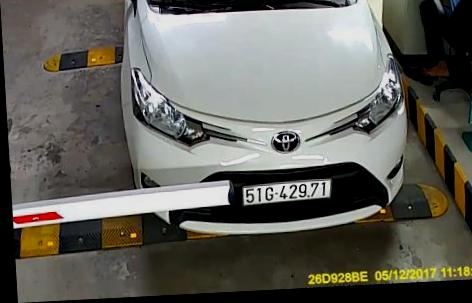License_Plate: (237, 174, 339, 210)
